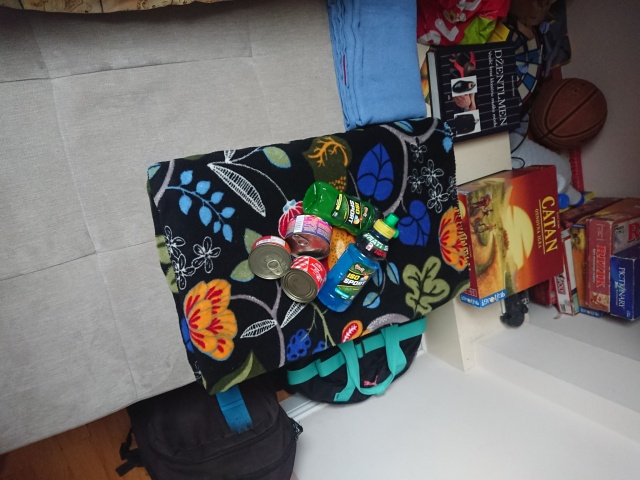Gavrilovic Pork Liver Pate 100g: (246, 234, 293, 281)
Giana Tuna Salad Mexico 185g: (283, 212, 335, 262)
Podravka Luncheon Meat 150g: (279, 253, 329, 305)
Vindi Iso Sport Forest Strawberries 500mL: (314, 210, 402, 315)
Vindi Iso Sport Lemon-Grapefruit 500mL: (301, 179, 401, 245)
